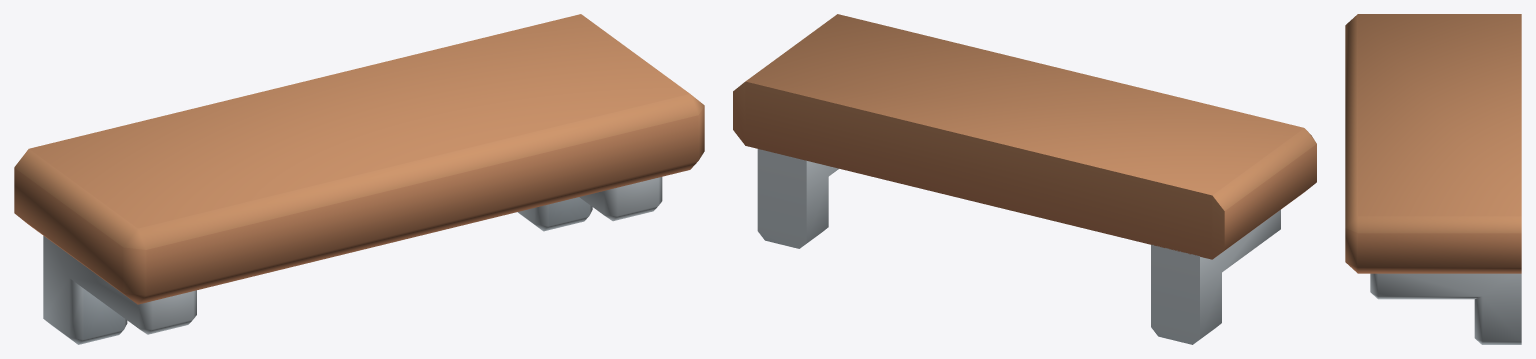
Rendered from Wall Shelf.glb.
The picture shows the model from 3 angles, left to right: view 1: azimuth 30°, elevation 25°; view 2: azimuth 150°, elevation 25°; view 3: azimuth 270°, elevation 25°; orthographic projection. The views are drawn at different scales.
Visible parts, largest first — view 1: wall_shelf; view 2: wall_shelf; view 3: wall_shelf.
Boxes of the visible parts, x1,y1,x2,y2 form: wall_shelf: (14,14,704,344); wall_shelf: (733,14,1316,344); wall_shelf: (1345,14,1521,344).
Size of the model in its own units: 2 by 0.6 by 0.7.
1 material, 1 textured.
